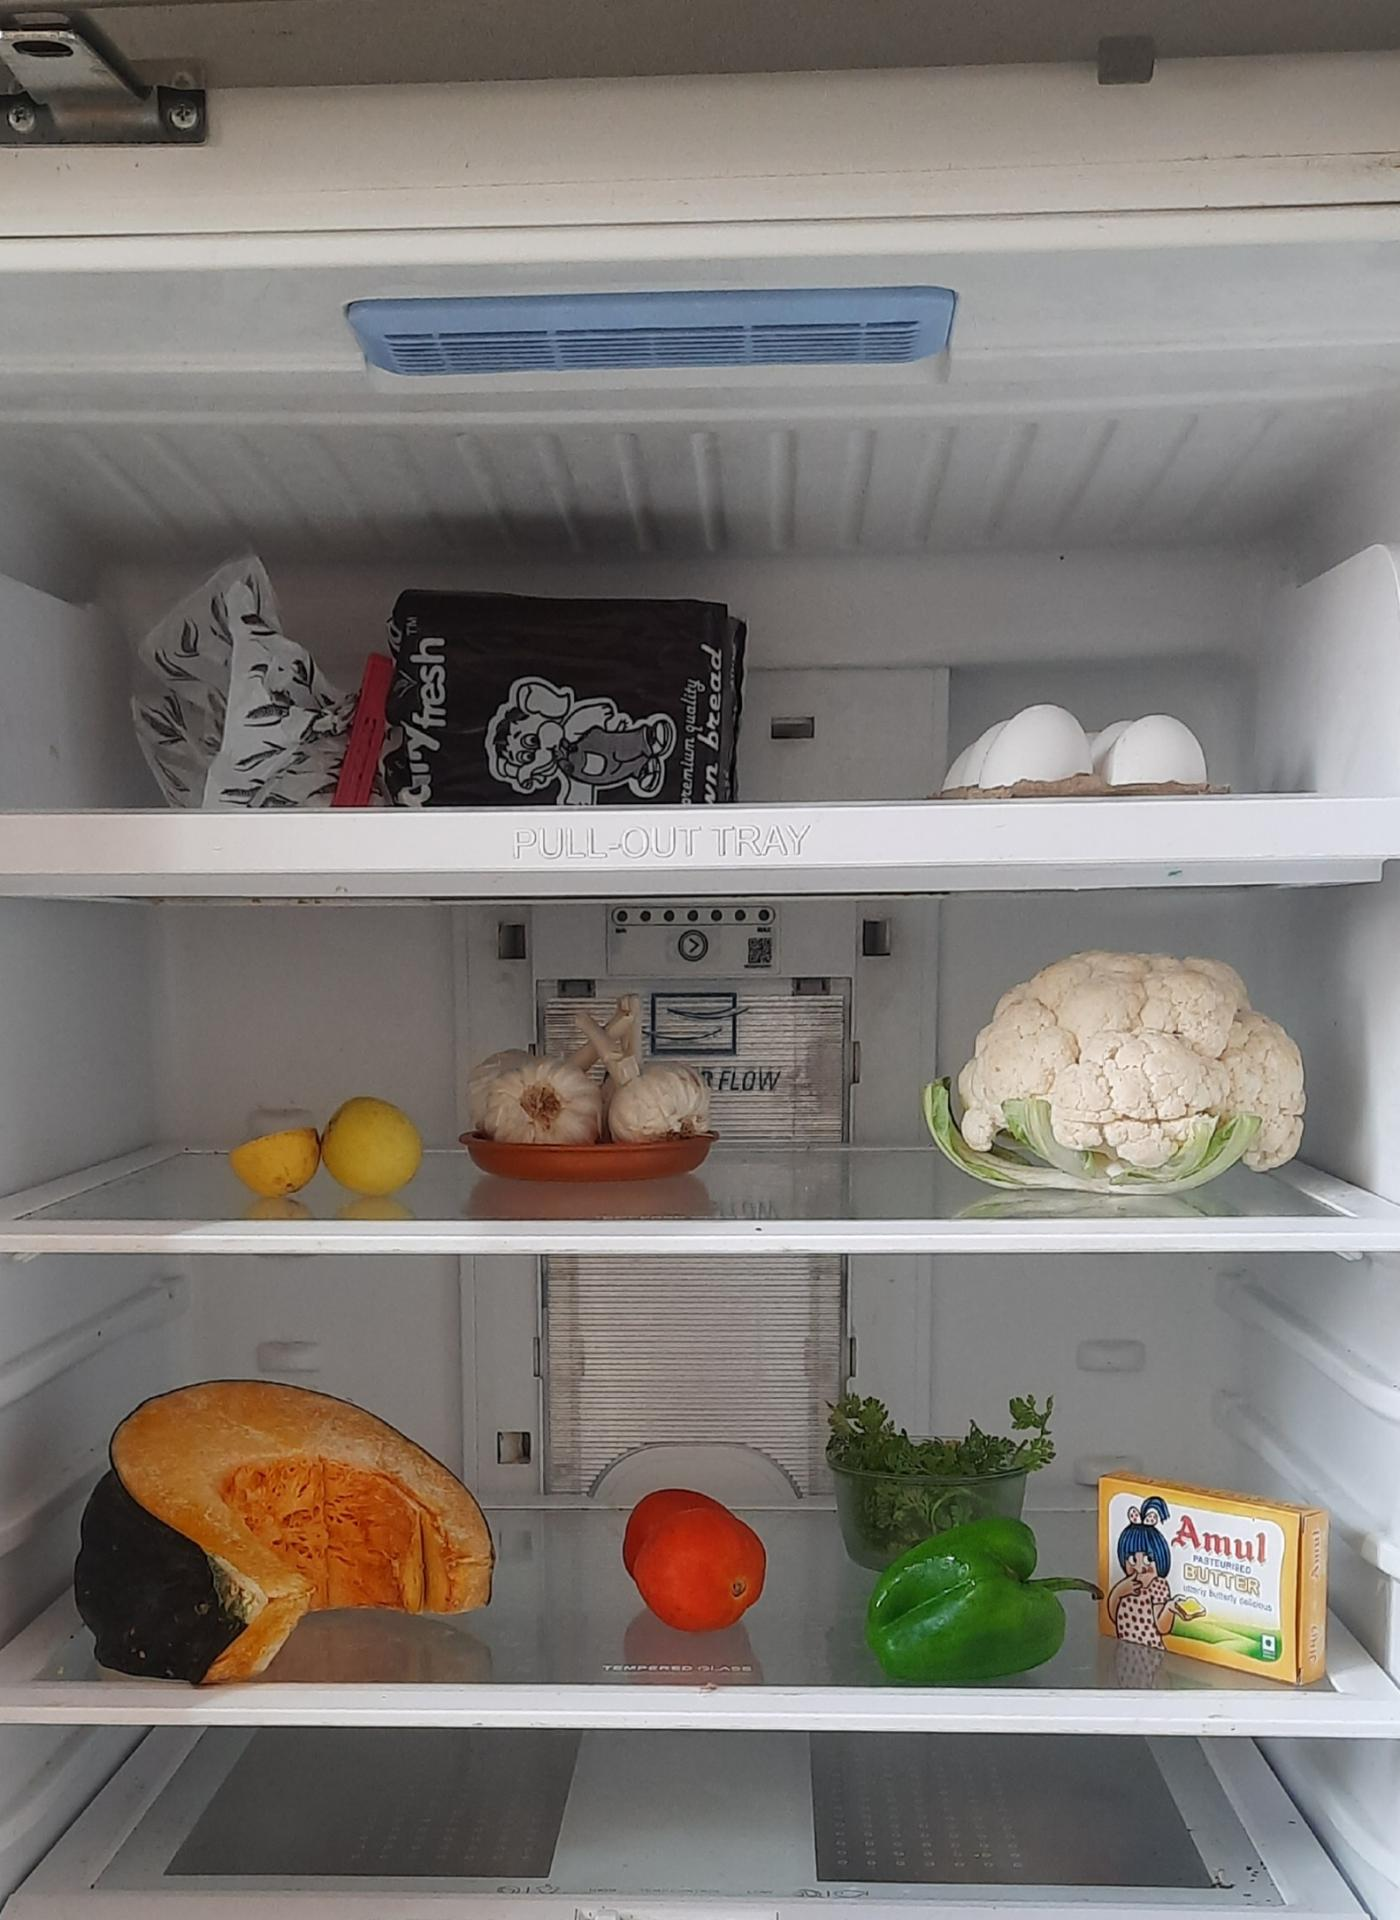bread: (137, 547, 738, 798)
butter: (1100, 1474, 1339, 1684)
cauliflower: (945, 954, 1317, 1187)
coriander: (832, 1388, 1056, 1555)
cucumber: (860, 1522, 1081, 1679)
egg: (939, 707, 1211, 789)
garlic: (464, 993, 711, 1140)
lemon: (230, 1088, 440, 1210)
pumpkin: (67, 1367, 507, 1683)
tomato: (620, 1483, 766, 1628)
